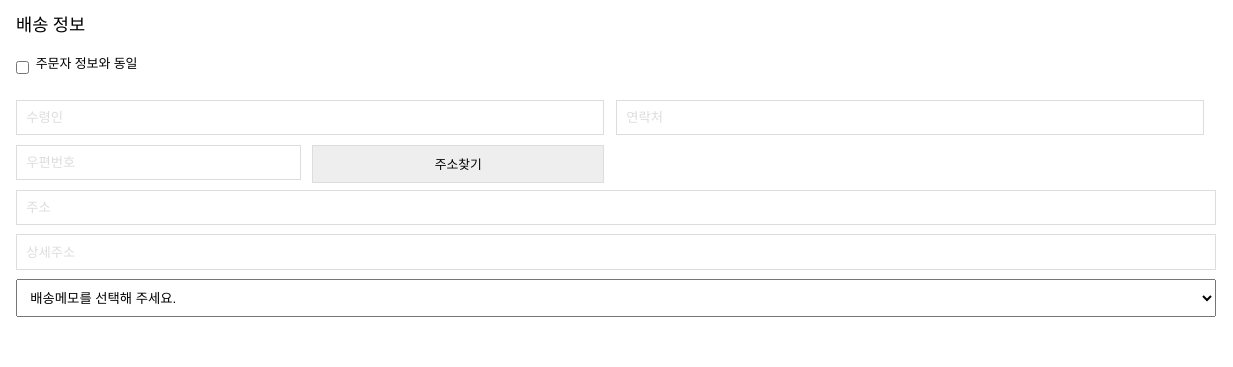
Test: ShippingInformation › 배송 연락처 › 유효하지 않은 전화번호를 입력했을 경우 › 올바른 전화번호를 입력하세요 에러메시지가 보인다
Expected: the text "올바른 전화번호를 입력하세요" is not shown
Type "1231234" into the field with placeholder "연락처" at (910, 117), box [616, 100, 1204, 135]
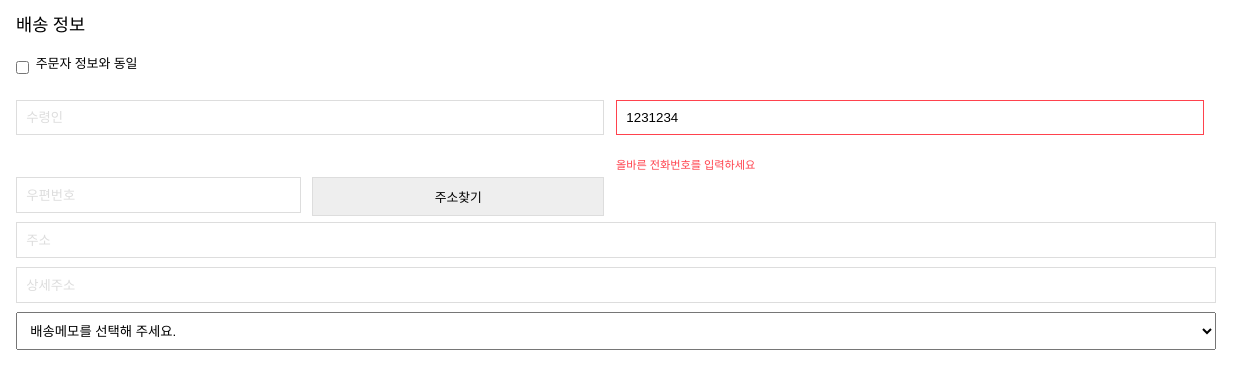
Expected: the text "올바른 전화번호를 입력하세요" is shown, [616, 159, 755, 171]
